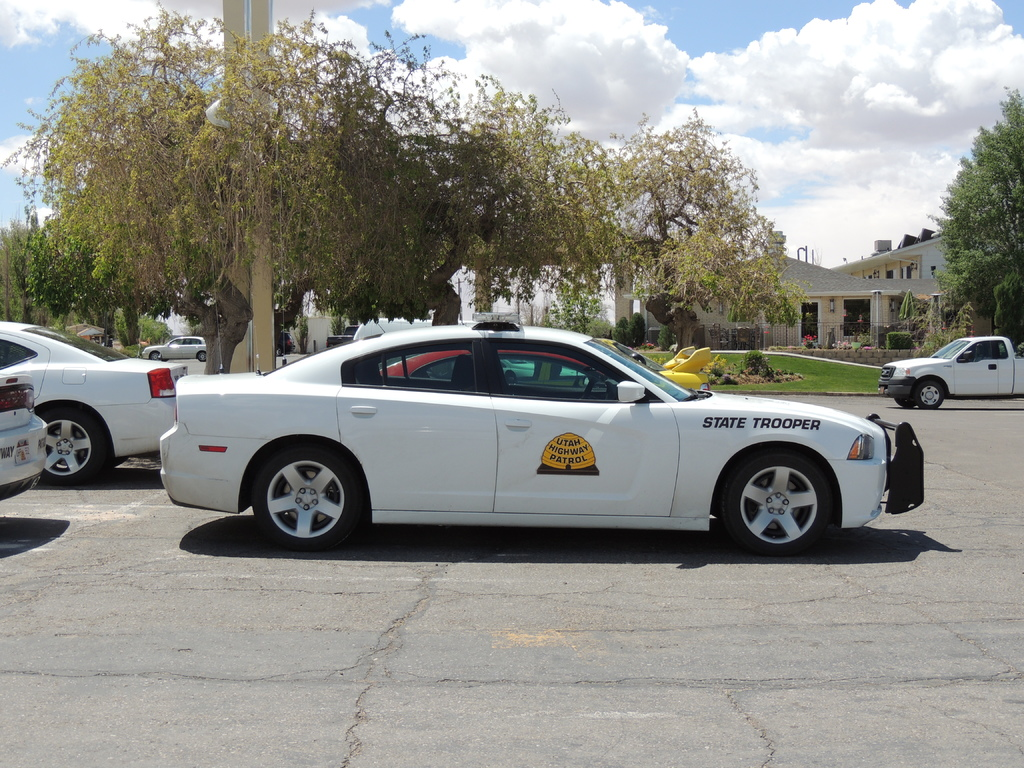cars: (156, 322, 931, 560), (0, 315, 180, 482), (0, 365, 51, 500), (136, 329, 204, 361)
